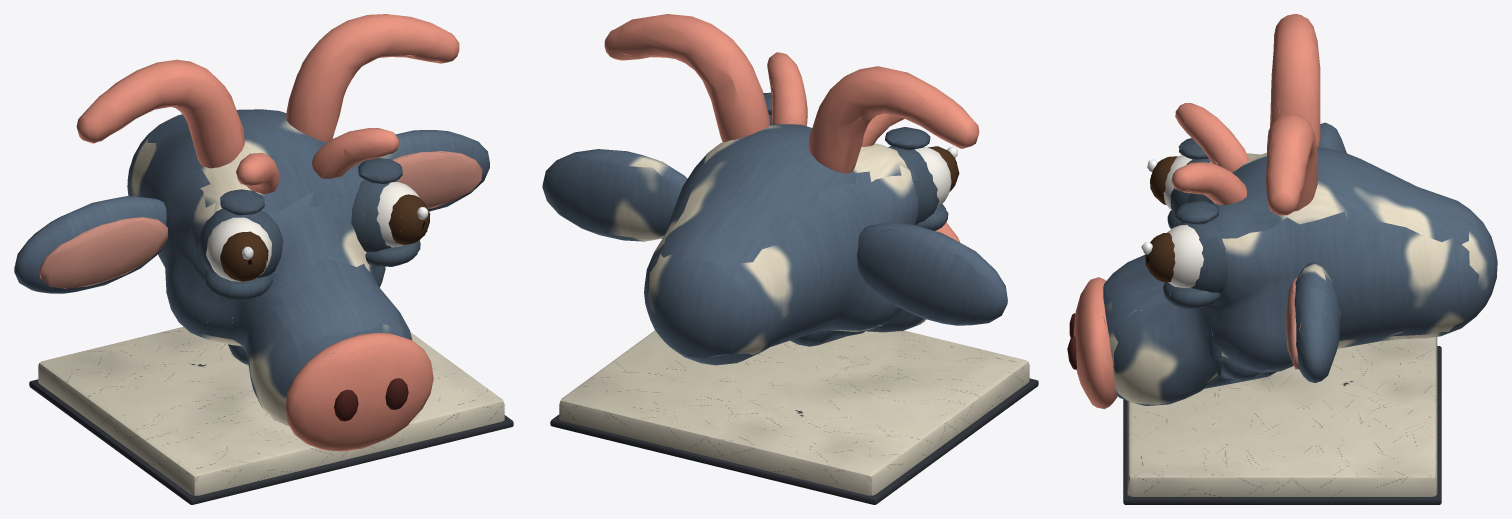
File: grazer_head_topper.glb
3 views of the same model, side by side, from view 1: azimuth 30°, elevation 25°; view 2: azimuth 150°, elevation 25°; view 3: azimuth 270°, elevation 25° (orthographic). The views are drawn at different scales.
Visible parts, largest first — view 1: Head, GrazerHeadTopperBase; view 2: Head, GrazerHeadTopperBase; view 3: Head, GrazerHeadTopperBase.
Boxes of the visible parts, <box> form: Head: <box>14,14,489,451</box>; GrazerHeadTopperBase: <box>29,326,513,504</box>; Head: <box>542,14,1007,365</box>; GrazerHeadTopperBase: <box>550,330,1038,504</box>; Head: <box>1067,14,1497,408</box>; GrazerHeadTopperBase: <box>1123,337,1441,504</box>.
Bounding box in the file's own units: 0.8976 × 0.6655 × 0.73.
Materials: 14 (8 with a texture image).
